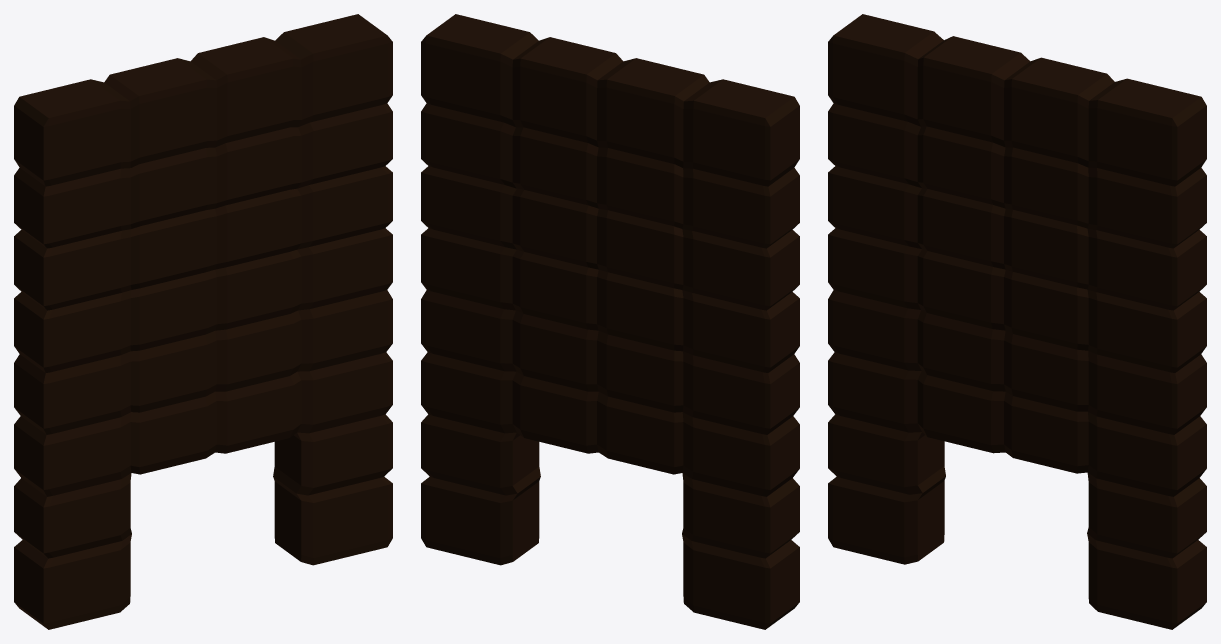
File: DoorFrame.fbx
3 renders of one model, left to right at view 1: azimuth 30°, elevation 25°; view 2: azimuth 150°, elevation 25°; view 3: azimuth 330°, elevation 25°, orthographic.
Parts seen in each view (by area): view 1: Cube; view 2: Cube; view 3: Cube.
Boxes of the visible parts, <box> form: Cube: <box>14,14,392,629</box>; Cube: <box>421,14,799,629</box>; Cube: <box>828,14,1206,629</box>.
Size of the model in its own units: 4000 by 5600 by 600.
